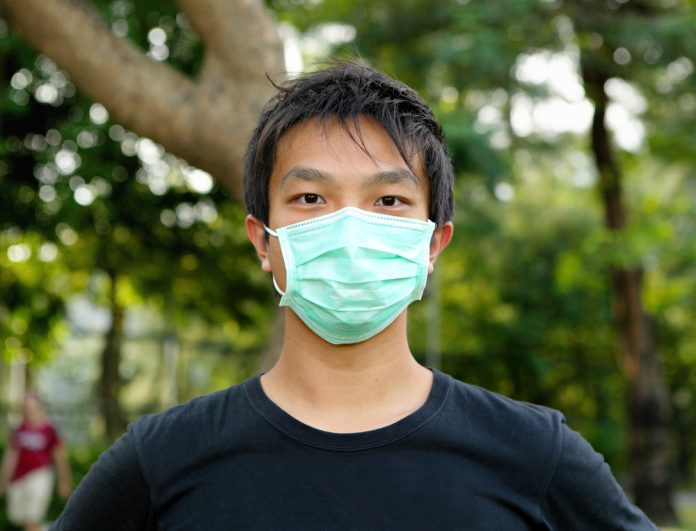surgical: (254, 201, 442, 346)
